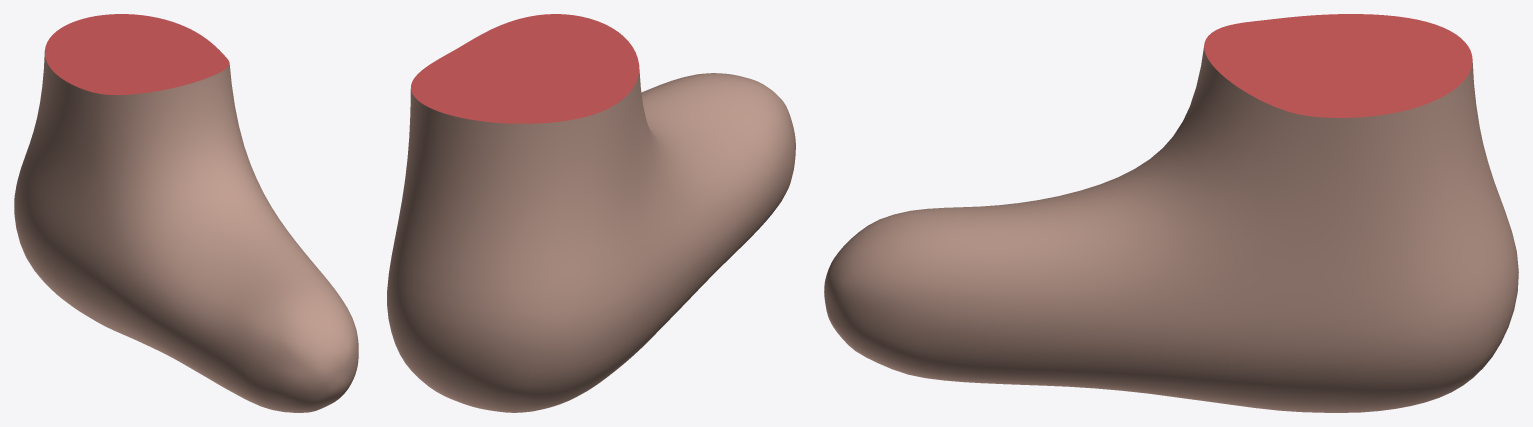
The picture shows the model from 3 angles, left to right: view 1: azimuth 30°, elevation 25°; view 2: azimuth 150°, elevation 25°; view 3: azimuth 270°, elevation 25°; orthographic projection. The views are drawn at different scales.
Parts seen in each view (by area): view 1: polySurface34; view 2: polySurface34; view 3: polySurface34.
Part boxes in pixels (x1=…): polySurface34: x1=14, y1=14, x2=358, y2=412; polySurface34: x1=387, y1=14, x2=795, y2=412; polySurface34: x1=824, y1=14, x2=1518, y2=412.
Size of the model in its own units: 1.6 by 2.24 by 3.99.
